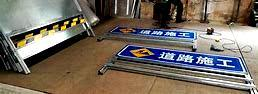sign: (118, 48, 245, 70), (116, 28, 194, 37)
